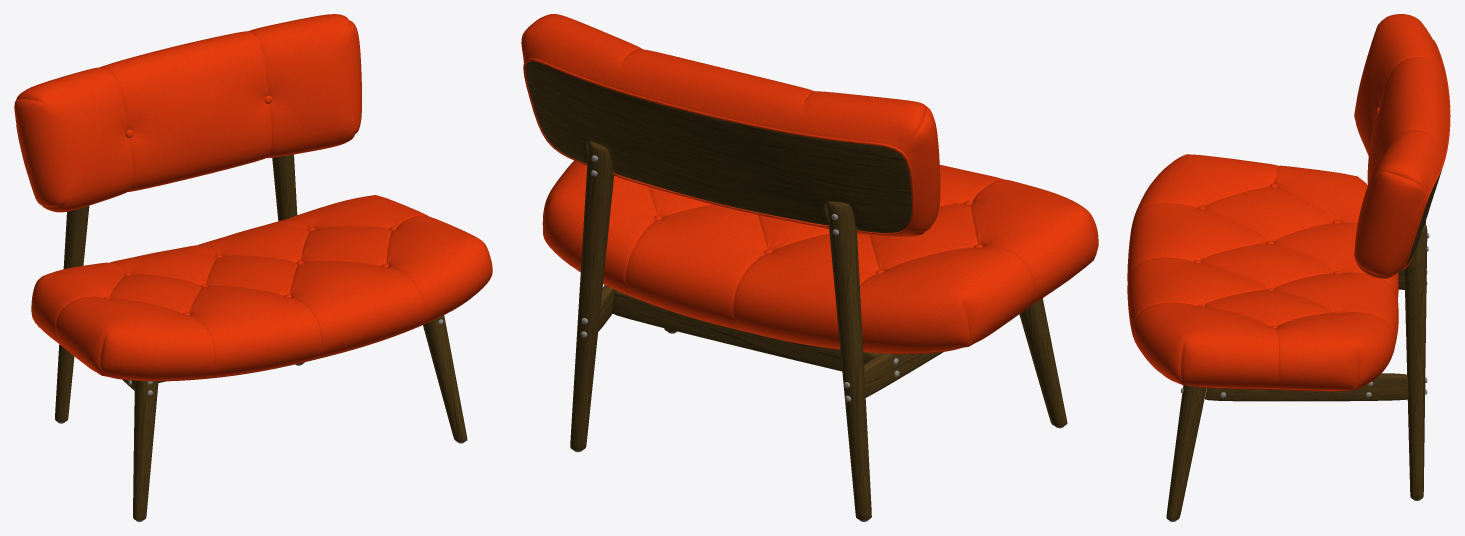
File: sample-chair.037d5621b4.ar.glb
3 renders of one model, left to right at view 1: azimuth 30°, elevation 25°; view 2: azimuth 150°, elevation 25°; view 3: azimuth 270°, elevation 25°, orthographic. The views are drawn at different scales.
Parts seen in each view (by area): view 1: SheenChair_fabric, SheenChair_wood; view 2: SheenChair_fabric, SheenChair_wood; view 3: SheenChair_fabric, SheenChair_wood.
Part boxes in pixels (bbox=[...]): SheenChair_fabric: bbox=[14, 14, 492, 381]; SheenChair_wood: bbox=[55, 154, 467, 520]; SheenChair_fabric: bbox=[521, 14, 1098, 354]; SheenChair_wood: bbox=[525, 61, 1067, 520]; SheenChair_fabric: bbox=[1127, 14, 1450, 391]; SheenChair_wood: bbox=[1166, 170, 1441, 520].
Bounding box in the file's own units: 0.8266 × 0.6862 × 0.5703.
4 materials, 3 textured.
